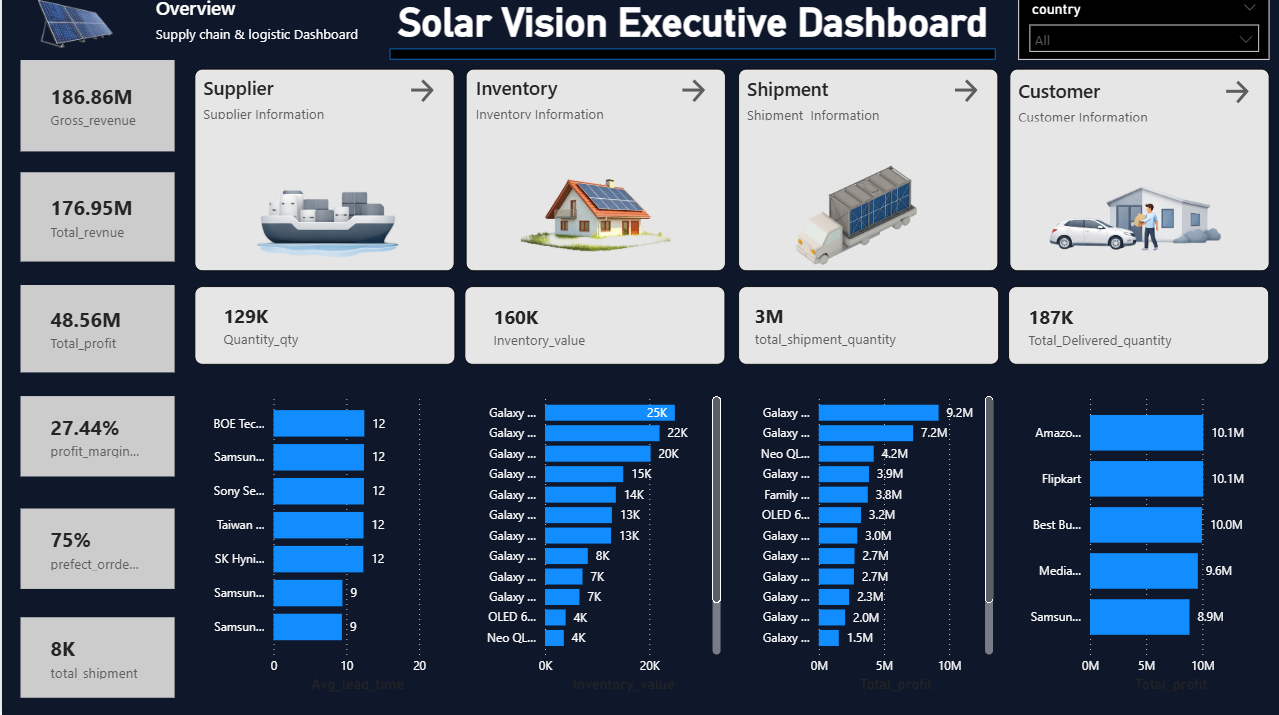

The page's visual inventory and layout, read from the dashboard file:
{"tool":"powerbi","page":{"name":"Overview","canvas":[1280,720],"ordinal":0},"visuals":[{"type":"shape","title":"Overview ","box":[153.8,0,217.5,61.2],"z":0},{"type":"shape","box":[192.5,74,260,202.3],"z":0,"group":"g1"},{"type":"image","box":[0,0,147.5,61.2],"z":2000},{"type":"shape","box":[1007.5,73.8,260,202.2],"z":2000,"group":"g1"},{"type":"cardVisual","fields":{"Data":["measurTable.Total_revnue"]},"box":[18.8,177.5,153.8,88.8],"z":3000},{"type":"shape","box":[735.9,74,260,202.3],"z":4000,"group":"g1"},{"type":"cardVisual","fields":{"Data":["measurTable.Total_profit"]},"box":[18.8,290,153.8,87.5],"z":4000},{"type":"cardVisual","fields":{"Data":["measurTable.profit_margin %"]},"box":[19,401.8,153.8,80],"z":5000},{"type":"shape","box":[464.2,74,260,202.3],"z":6000,"group":"g1"},{"type":"cardVisual","fields":{"Data":["measurTable.prefect_orrder%"]},"box":[19,514,153.8,80],"z":6000},{"type":"cardVisual","fields":{"Data":["Sum(fact_sales.gross_revenue)"]},"box":[18.8,65,153.8,91.2],"z":7000},{"type":"image","box":[225,175.2,195,91.2],"z":7000,"group":"g1"},{"type":"cardVisual","fields":{"Data":["measurTable.total_shipment"]},"box":[18.8,622.5,153.8,80],"z":8000},{"type":"image","box":[1039.9,175.2,195,91.2],"z":9000,"group":"g1"},{"type":"clusteredBarChart","fields":{"Y":["measurTable.Avg_lead_time"],"Category":["dim_supplier.supplier_name"]},"box":[193.8,388.8,258.8,313.8],"z":9000},{"type":"group","id":"g1","title":"Group 2","box":[192.5,73.8,1075,202.5],"z":10000},{"type":"image","box":[771.9,167.5,206,107.9],"z":11000,"group":"g1"},{"type":"group","id":"g2","title":"Group 3","box":[192.5,290,1075,81.2],"z":11000},{"type":"clusteredBarChart","fields":{"Category":["dim_product.product_name"],"Y":["measurTable.Inventory_value"]},"box":[466.2,388.8,257.5,313.8],"z":12000},{"type":"image","box":[496.6,175.2,195,91.2],"z":13000,"group":"g1"},{"type":"clusteredBarChart","fields":{"Category":["dim_product.product_name"],"Y":["measurTable.Total_profit"]},"box":[740,388.8,256.2,313.8],"z":13000},{"type":"clusteredBarChart","fields":{"Y":["measurTable.Total_profit"],"Category":["dim_customer.customer_name"]},"box":[1011.2,388.8,256.2,313.8],"z":14000},{"type":"actionButton","box":[403.8,80.4,48.8,31.6],"z":15000,"group":"g1"},{"type":"slicer","fields":{"Values":["dim_customer.country"]},"box":[1016.2,0,251.2,65],"z":16000},{"type":"actionButton","box":[675.4,80.4,48.8,31.6],"z":17000,"group":"g1"},{"type":"shape","title":"Solar Vision Executive Dashboard","box":[387.5,3.8,606.2,61.2],"z":17501},{"type":"actionButton","box":[947,80.4,48.8,31.6],"z":18000,"group":"g1"},{"type":"actionButton","box":[1218.6,81.3,48.8,31.6],"z":19000,"group":"g1"},{"type":"shape","title":"Supplier ","box":[201.8,80.4,202,44.2],"z":20000,"group":"g1"},{"type":"shape","title":"Inventory ","box":[473.4,80.4,202,44.2],"z":21000,"group":"g1"},{"type":"shape","title":"Shipment ","box":[745,81.3,202,44.2],"z":22000,"group":"g1"},{"type":"shape","title":"Customer ","box":[1016.7,82.2,202,44.2],"z":23000,"group":"g1"},{"type":"group","id":"g3","title":"Group 1","box":[192.5,291.2,1075,78.8],"z":24000,"group":"g2"},{"type":"cardVisual","fields":{"Data":["measurTable.Quantity_qty"]},"box":[192.5,290,162.2,80],"z":25000,"group":"g2"},{"type":"shape","box":[192.5,291.2,261.2,78.8],"z":25000,"group":"g3"},{"type":"shape","box":[462.9,291.2,261.2,78.8],"z":26000,"group":"g3"},{"type":"cardVisual","fields":{"Data":["measurTable.Inventory_value"]},"box":[462.9,291.2,162.2,80],"z":27000,"group":"g2"},{"type":"shape","box":[735.9,291.2,261.2,78.8],"z":27000,"group":"g3"},{"type":"cardVisual","fields":{"Data":["measurTable.otal_shipment_quantity"]},"box":[724.1,290,217.6,80],"z":28000,"group":"g2"},{"type":"shape","box":[1006.3,291.2,261.2,78.8],"z":28000,"group":"g3"},{"type":"cardVisual","fields":{"Data":["measurTable.Total_Delivered_quantity"]},"box":[997.1,291.2,217.6,80],"z":29000,"group":"g2"}]}

Visuals, with their boxes in screenshot pixels (x1, y1, x2, y2), scaled from the page's 1280x720 canvas onto the 1279x715 screenshot:
"Overview " shape: {"x1": 154, "y1": 0, "x2": 371, "y2": 61}
shape: {"x1": 192, "y1": 73, "x2": 452, "y2": 274}
image: {"x1": 0, "y1": 0, "x2": 147, "y2": 61}
shape: {"x1": 1007, "y1": 73, "x2": 1267, "y2": 274}
cardVisual - measurTable.Total_revnue: {"x1": 19, "y1": 176, "x2": 172, "y2": 264}
shape: {"x1": 735, "y1": 73, "x2": 995, "y2": 274}
cardVisual - measurTable.Total_profit: {"x1": 19, "y1": 288, "x2": 172, "y2": 375}
cardVisual - measurTable.profit_margin %: {"x1": 19, "y1": 399, "x2": 173, "y2": 478}
shape: {"x1": 464, "y1": 73, "x2": 724, "y2": 274}
cardVisual - measurTable.prefect_orrder%: {"x1": 19, "y1": 510, "x2": 173, "y2": 590}
cardVisual - Sum(fact_sales.gross_revenue): {"x1": 19, "y1": 65, "x2": 172, "y2": 155}
image: {"x1": 225, "y1": 174, "x2": 420, "y2": 265}
cardVisual - measurTable.total_shipment: {"x1": 19, "y1": 618, "x2": 172, "y2": 698}
image: {"x1": 1039, "y1": 174, "x2": 1234, "y2": 265}
clusteredBarChart - measurTable.Avg_lead_time x dim_supplier.supplier_name: {"x1": 194, "y1": 386, "x2": 452, "y2": 698}
"Group 2" group: {"x1": 192, "y1": 73, "x2": 1267, "y2": 274}
image: {"x1": 771, "y1": 166, "x2": 977, "y2": 273}
"Group 3" group: {"x1": 192, "y1": 288, "x2": 1267, "y2": 369}
clusteredBarChart - dim_product.product_name x measurTable.Inventory_value: {"x1": 466, "y1": 386, "x2": 723, "y2": 698}
image: {"x1": 496, "y1": 174, "x2": 691, "y2": 265}
clusteredBarChart - dim_product.product_name x measurTable.Total_profit: {"x1": 739, "y1": 386, "x2": 995, "y2": 698}
clusteredBarChart - measurTable.Total_profit x dim_customer.customer_name: {"x1": 1010, "y1": 386, "x2": 1266, "y2": 698}
actionButton: {"x1": 403, "y1": 80, "x2": 452, "y2": 111}
slicer - dim_customer.country: {"x1": 1015, "y1": 0, "x2": 1266, "y2": 65}
actionButton: {"x1": 675, "y1": 80, "x2": 724, "y2": 111}
"Solar Vision Executive Dashboard" shape: {"x1": 387, "y1": 4, "x2": 993, "y2": 65}
actionButton: {"x1": 946, "y1": 80, "x2": 995, "y2": 111}
actionButton: {"x1": 1218, "y1": 81, "x2": 1266, "y2": 112}
"Supplier " shape: {"x1": 202, "y1": 80, "x2": 403, "y2": 124}
"Inventory " shape: {"x1": 473, "y1": 80, "x2": 675, "y2": 124}
"Shipment " shape: {"x1": 744, "y1": 81, "x2": 946, "y2": 125}
"Customer " shape: {"x1": 1016, "y1": 82, "x2": 1218, "y2": 126}
"Group 1" group: {"x1": 192, "y1": 289, "x2": 1267, "y2": 367}
cardVisual - measurTable.Quantity_qty: {"x1": 192, "y1": 288, "x2": 354, "y2": 367}
shape: {"x1": 192, "y1": 289, "x2": 453, "y2": 367}
shape: {"x1": 463, "y1": 289, "x2": 724, "y2": 367}
cardVisual - measurTable.Inventory_value: {"x1": 463, "y1": 289, "x2": 625, "y2": 369}
shape: {"x1": 735, "y1": 289, "x2": 996, "y2": 367}
cardVisual - measurTable.otal_shipment_quantity: {"x1": 724, "y1": 288, "x2": 941, "y2": 367}
shape: {"x1": 1006, "y1": 289, "x2": 1267, "y2": 367}
cardVisual - measurTable.Total_Delivered_quantity: {"x1": 996, "y1": 289, "x2": 1214, "y2": 369}
